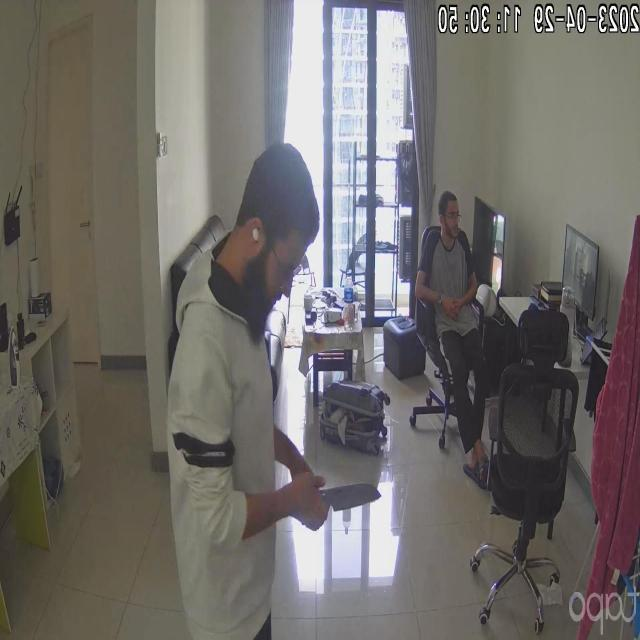Knife: (319, 466, 383, 520)
